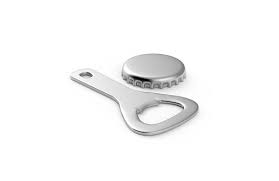bottleopener: (69, 68, 199, 136)
